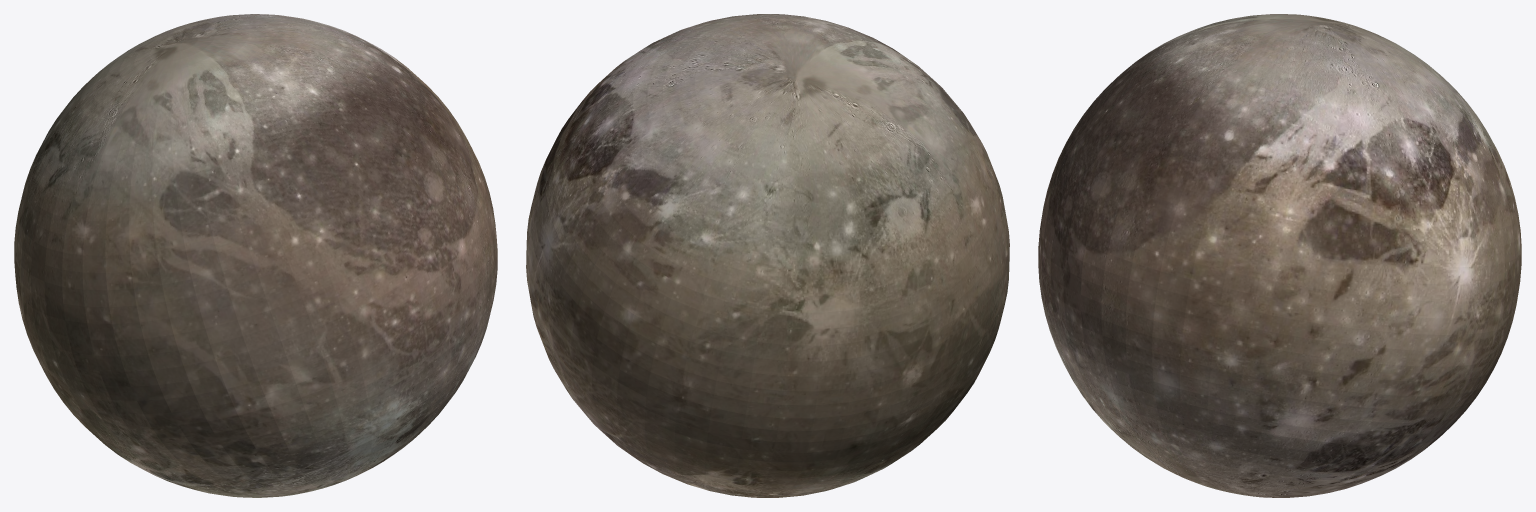
File: ganymede.obj
3 views of the same model, side by side, from view 1: azimuth 30°, elevation 25°; view 2: azimuth 150°, elevation 25°; view 3: azimuth 270°, elevation 25° (orthographic).
Visible parts, largest first — view 1: Plane; view 2: Plane; view 3: Plane.
Boxes of the visible parts, bbox=[...] form: Plane: bbox=[14, 14, 497, 497]; Plane: bbox=[526, 14, 1009, 497]; Plane: bbox=[1038, 14, 1521, 497].
Bounding box in the file's own units: 2.61 × 2.61 × 2.61.
1 material, 1 textured.
